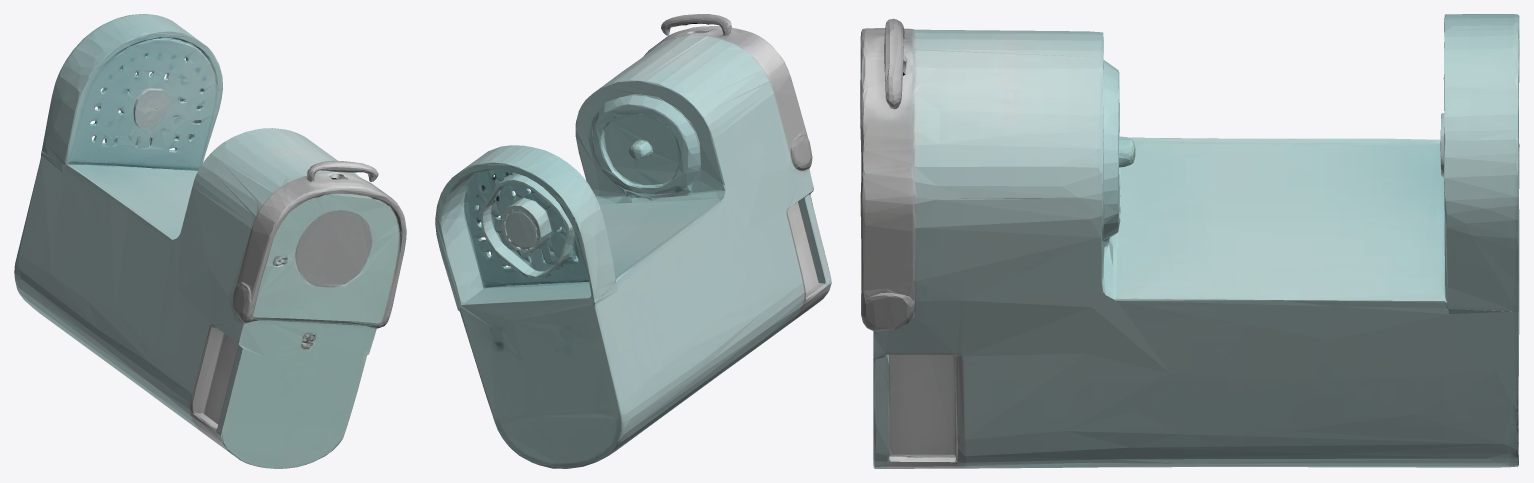
The picture shows the model from 3 angles, left to right: view 1: azimuth 30°, elevation 25°; view 2: azimuth 150°, elevation 25°; view 3: azimuth 270°, elevation 25°; orthographic projection. The views are drawn at different scales.
Parts seen in each view (by area): view 1: geometry_0; view 2: geometry_0; view 3: geometry_0.
Part boxes in pixels (x1,y1,x2,y2): geometry_0: [14, 14, 406, 468]; geometry_0: [435, 14, 831, 468]; geometry_0: [860, 14, 1519, 468].
Bounding box in the file's own units: 0.1575 × 0.2348 × 0.3082.
Materials: 1 (1 with a texture image).
